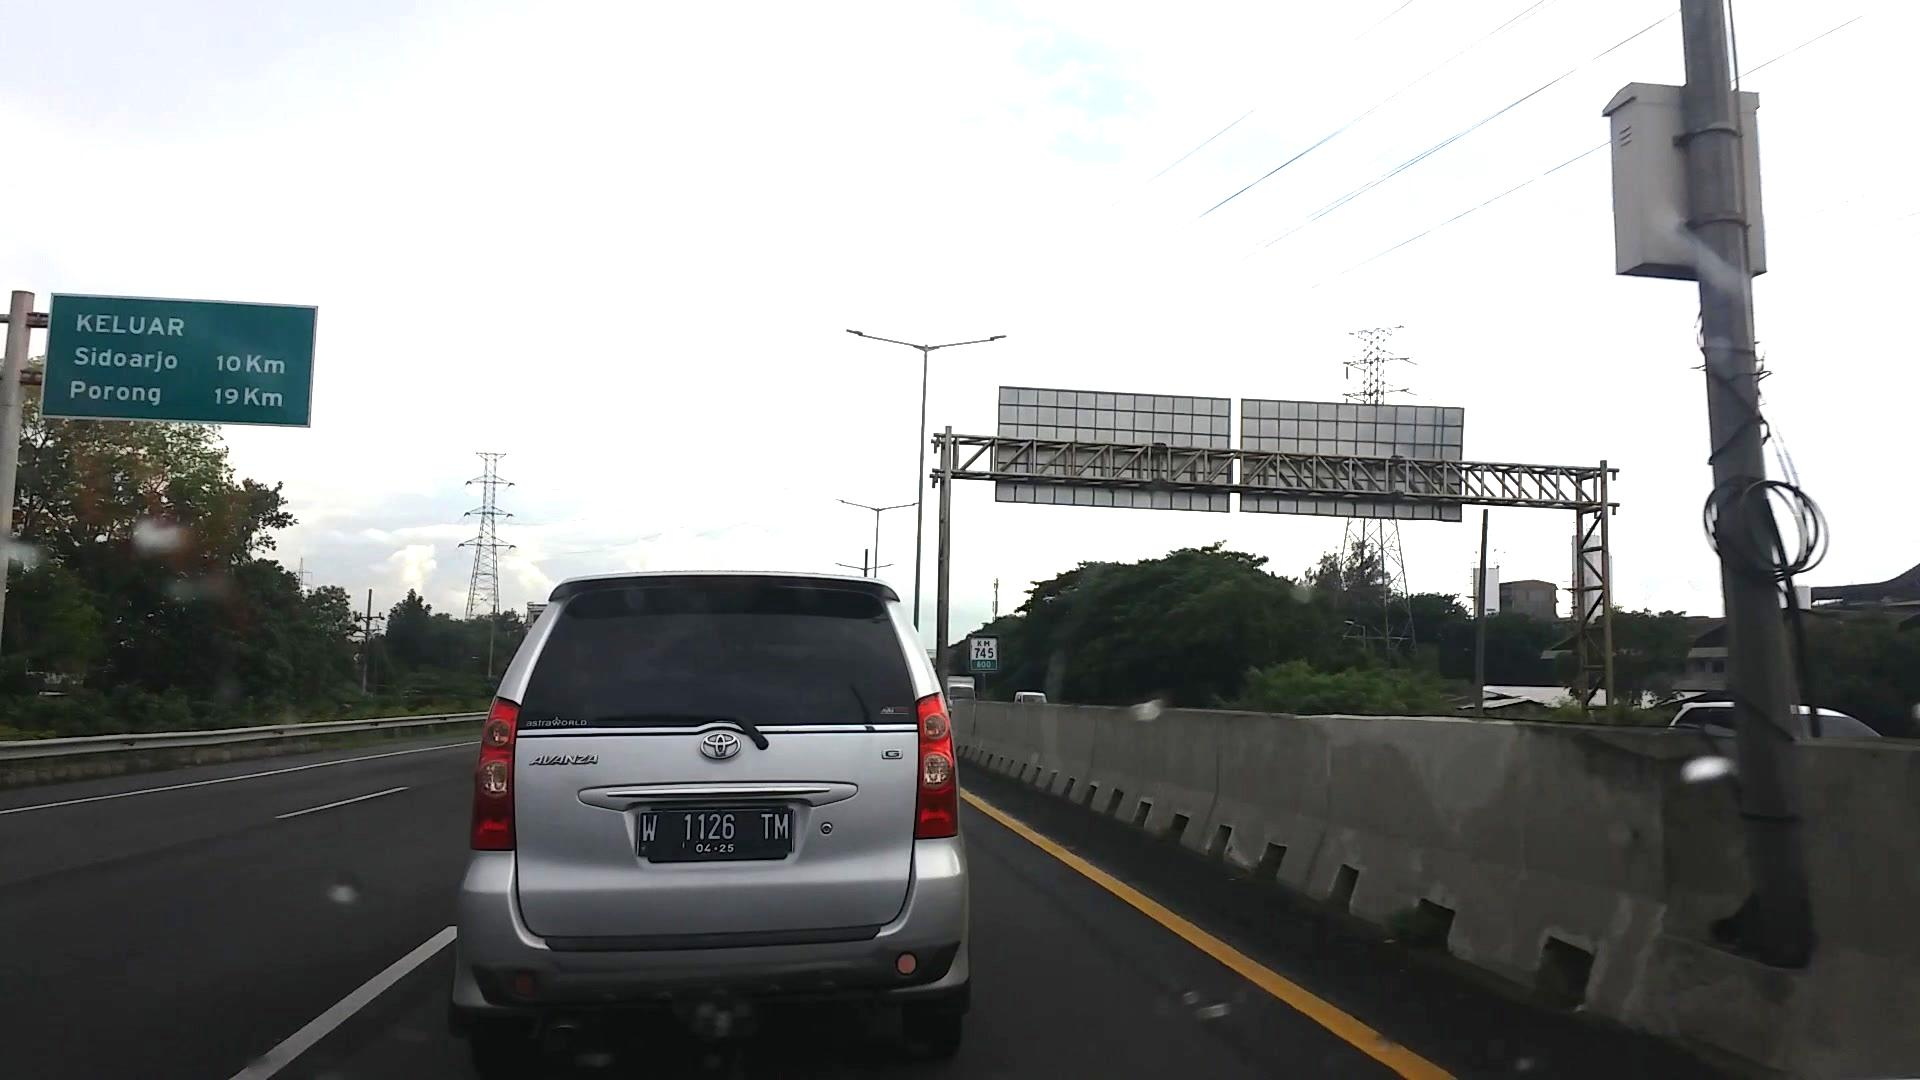plate_positive: (637, 811, 793, 856)
